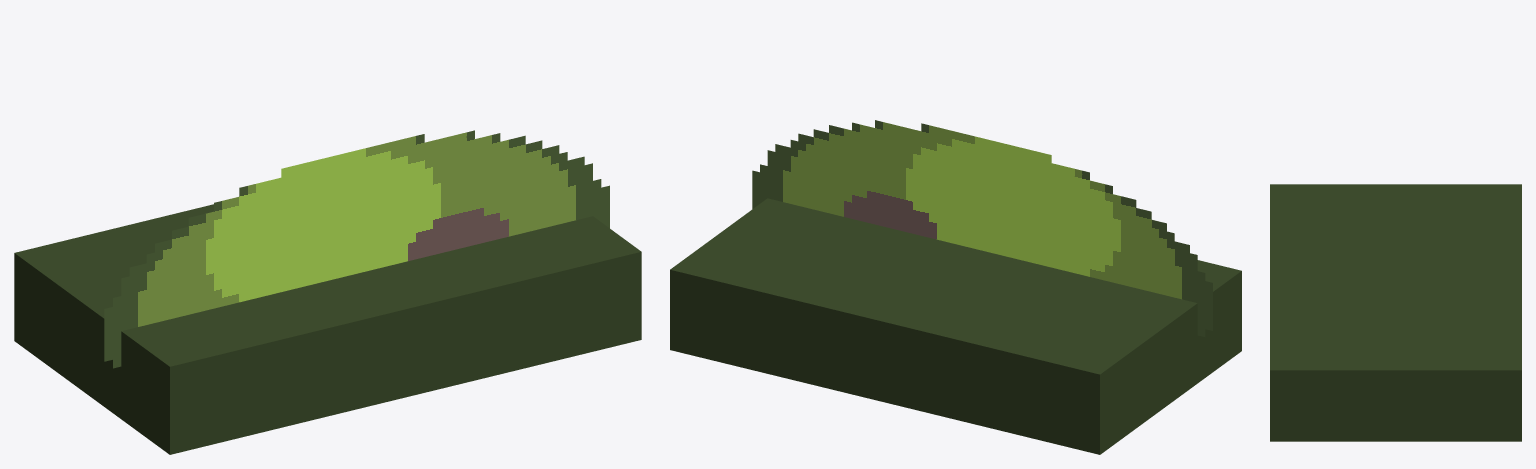
Rendered from knoll.glb.
The picture shows the model from 3 angles, left to right: view 1: azimuth 30°, elevation 25°; view 2: azimuth 150°, elevation 25°; view 3: azimuth 270°, elevation 25°; orthographic projection. The views are drawn at different scales.
Parts seen in each view (by area): view 1: knoll; view 2: knoll; view 3: knoll.
Part boxes in pixels (x1=…): knoll: x1=14, y1=130, x2=641, y2=454; knoll: x1=670, y1=120, x2=1241, y2=454; knoll: x1=1270, y1=184, x2=1521, y2=441.
Size of the model in its own units: 64 by 32 by 32.
Materials: 1 (1 with a texture image).
